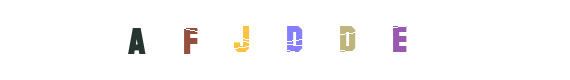A: (96, 0, 176, 80)
D: (254, 0, 334, 80), (263, 0, 343, 80)
E: (338, 0, 418, 80)
F: (147, 0, 227, 80)
J: (245, 0, 325, 80)
